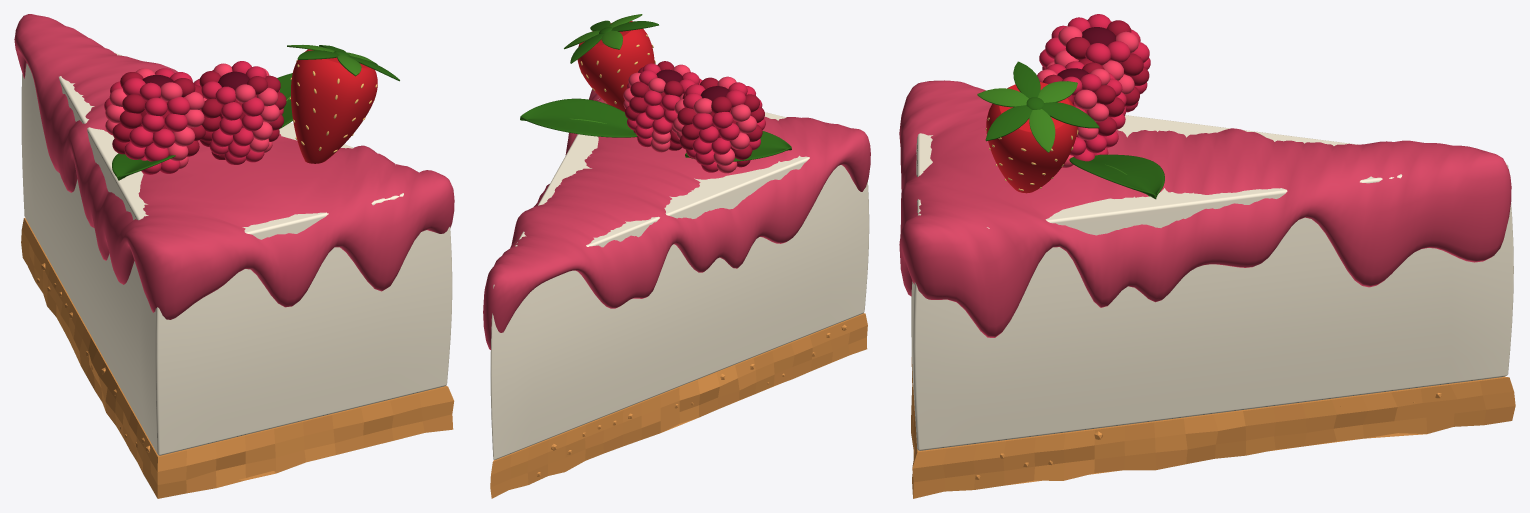
The model's file is edit_cake.glb.
3 renders of one model, left to right at view 1: azimuth 30°, elevation 25°; view 2: azimuth 150°, elevation 25°; view 3: azimuth 270°, elevation 25°, orthographic. The views are drawn at different scales.
Parts seen in each view (by area): view 1: Cheese, Icing, Crust, Raspberry_Left, Raspberry_Front, Strawberry_Right_Flesh, Strawberry_Right, Mint_Leaf_Side_Blade; view 2: Cheese, Icing, Crust, Raspberry_Left, Raspberry_Front, Strawberry_Right_Flesh, Mint_Leaf_Rear_Blade, Strawberry_Right, Mint_Leaf_Side_Blade; view 3: Cheese, Icing, Crust, Raspberry_Left, Strawberry_Right, Raspberry_Front, Strawberry_Right_Flesh, Mint_Leaf_Rear_Blade.
Boxes of the visible parts, <box> form: Cheese: <box>21,52,452,455</box>; Icing: <box>14,14,454,319</box>; Crust: <box>21,218,454,498</box>; Raspberry_Left: <box>104,68,205,174</box>; Raspberry_Front: <box>193,61,286,164</box>; Strawberry_Right_Flesh: <box>291,49,377,163</box>; Strawberry_Right: <box>287,45,399,152</box>; Mint_Leaf_Side_Blade: <box>112,153,175,180</box>; Cheese: <box>490,98,869,459</box>; Icing: <box>483,89,870,349</box>; Crust: <box>490,313,867,498</box>; Raspberry_Left: <box>673,76,765,173</box>; Raspberry_Front: <box>623,61,702,152</box>; Strawberry_Right_Flesh: <box>577,21,654,111</box>; Mint_Leaf_Rear_Blade: <box>520,98,637,137</box>; Strawberry_Right: <box>564,14,658,103</box>; Mint_Leaf_Side_Blade: <box>685,131,791,161</box>; Cheese: <box>911,115,1513,450</box>; Icing: <box>899,80,1511,337</box>; Crust: <box>911,357,1515,498</box>; Raspberry_Left: <box>1039,14,1150,115</box>; Strawberry_Right: <box>977,61,1099,190</box>; Raspberry_Front: <box>1037,61,1126,167</box>; Strawberry_Right_Flesh: <box>986,82,1077,193</box>; Mint_Leaf_Rear_Blade: <box>1069,154,1164,199</box>.
Size of the model in its own units: 1.25 by 1.4 by 2.05.
